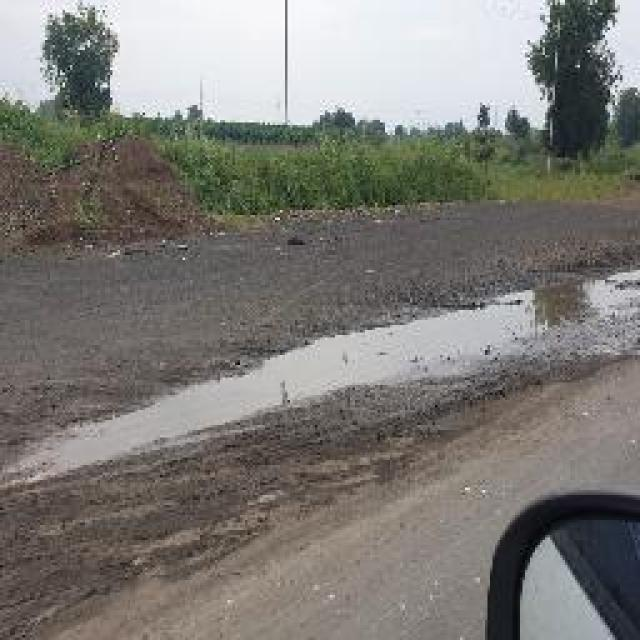stagnation: (0, 302, 410, 510), (431, 250, 640, 356)
